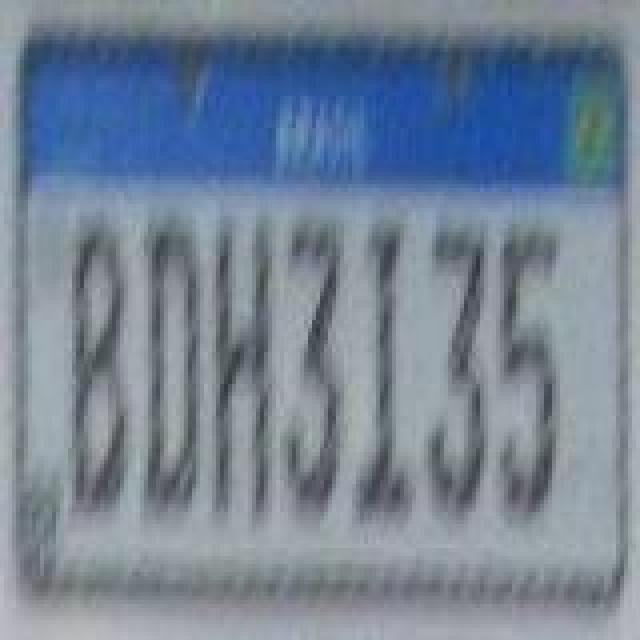3: (280, 216, 344, 528), (424, 226, 488, 526)
5: (494, 224, 562, 528)
B: (66, 216, 126, 520)
D: (142, 216, 202, 520)
H: (210, 214, 270, 530)
I: (352, 220, 416, 532)
